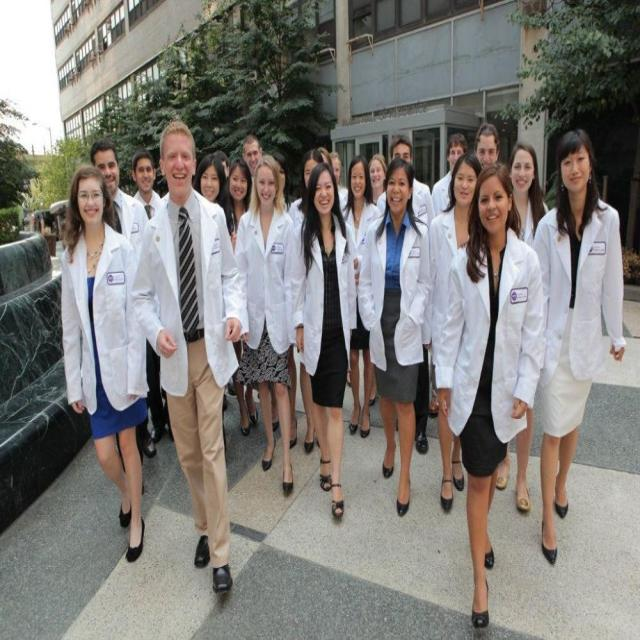body: (128, 116, 246, 604), (432, 158, 547, 632), (529, 123, 629, 569), (57, 158, 152, 565), (355, 155, 433, 521), (287, 158, 358, 520), (427, 148, 497, 514), (88, 134, 152, 498), (495, 143, 552, 512), (234, 153, 295, 497), (375, 135, 437, 458), (290, 146, 329, 457), (340, 155, 382, 440), (225, 158, 259, 436), (269, 150, 299, 450), (192, 151, 234, 248), (431, 131, 470, 221), (128, 148, 166, 223), (27, 201, 70, 242), (326, 150, 349, 216), (474, 122, 503, 171), (368, 152, 388, 207), (242, 132, 264, 178), (316, 141, 332, 174), (216, 154, 231, 172)
